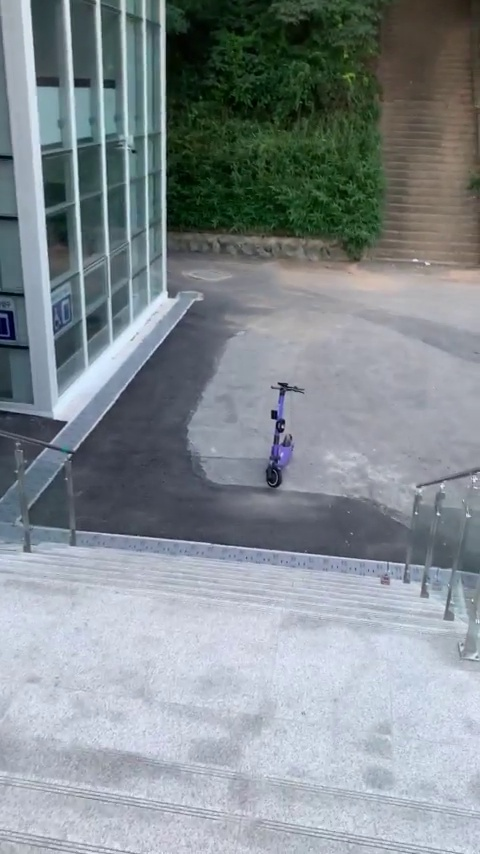beam: (255, 377, 315, 487)
